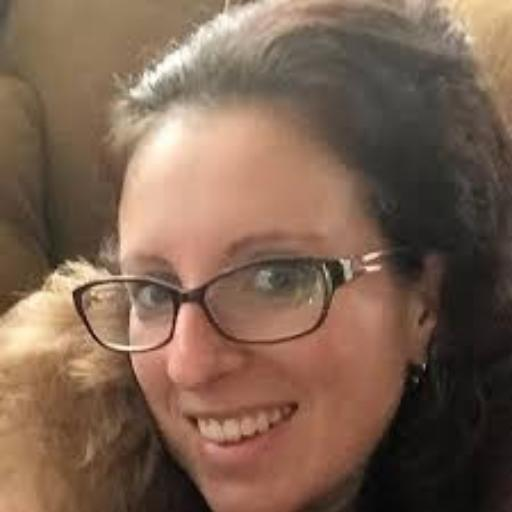left_eye: (244, 261, 312, 297)
left_lip_corner: (284, 395, 311, 414)
right_eye: (132, 284, 175, 307)
right_lip_corner: (182, 404, 203, 428)
